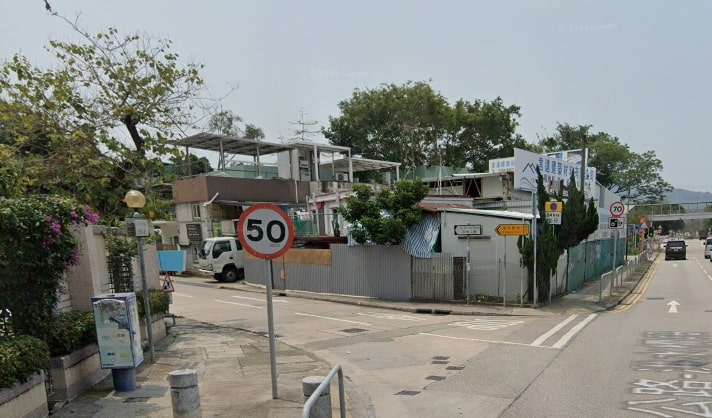Speed Limit: (231, 201, 297, 259)
